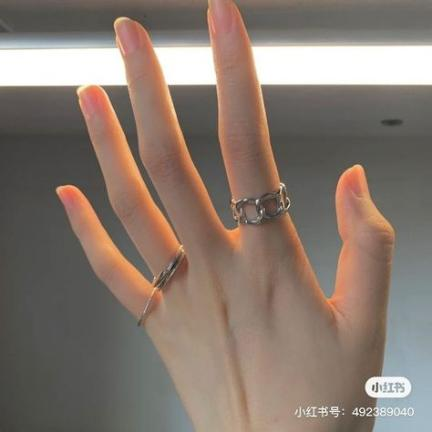Nail: (113, 17, 138, 53), (208, 0, 231, 36), (348, 164, 369, 197), (77, 85, 100, 115), (56, 186, 74, 211)
